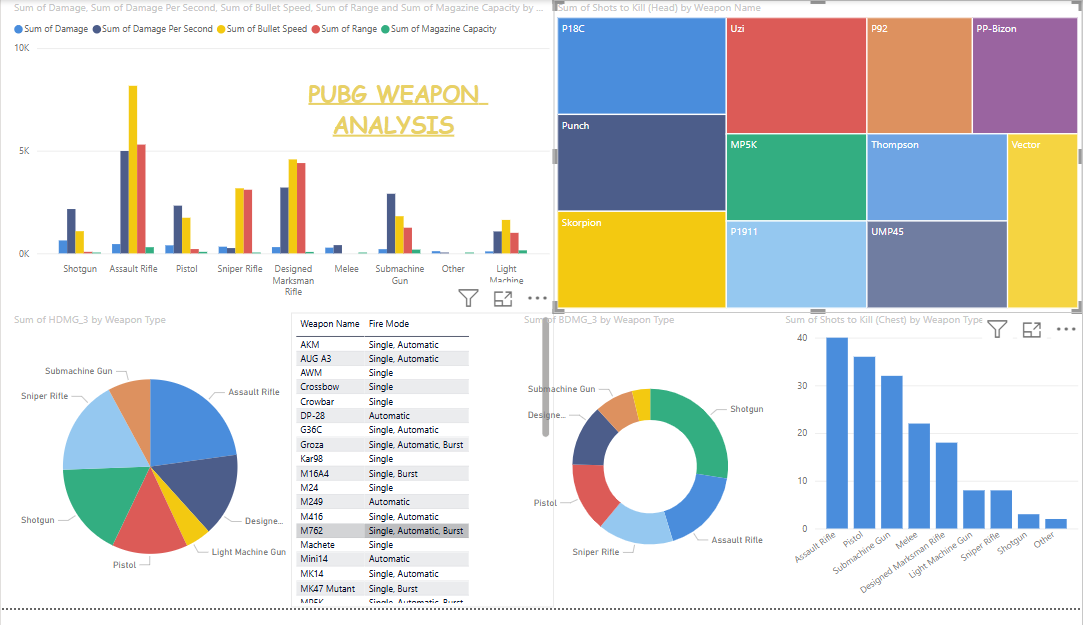

The page's visual inventory and layout, read from the dashboard file:
{"tool":"powerbi","page":{"name":"Page 1","canvas":[1280,720],"ordinal":0},"visuals":[{"type":"lineClusteredColumnComboChart","fields":{"Category":["pubg-weapon-stats.Weapon Type"],"Y":["Sum(pubg-weapon-stats.Damage)","Sum(pubg-weapon-stats.Damage Per Second)","Sum(pubg-weapon-stats.Bullet Speed)","Sum(pubg-weapon-stats.Range)","Sum(pubg-weapon-stats.Magazine Capacity)"]},"box":[10.4,0,643.9,359.7],"z":0},{"type":"treemap","fields":{"Group":["pubg-weapon-stats.Weapon Name"],"Values":["Sum(pubg-weapon-stats.Shots to Kill (Head))"]},"box":[654.2,0,626.1,370],"z":1},{"type":"pieChart","fields":{"Y":["Sum(pubg-weapon-stats.HDMG_3)"],"Series":["pubg-weapon-stats.Weapon Type"]},"box":[10.4,370,333,349.3],"z":2},{"type":"tableEx","fields":{"Values":["pubg-weapon-stats.Weapon Name","pubg-weapon-stats.Fire Mode"]},"box":[343,370,311,349],"z":3},{"type":"donutChart","fields":{"Category":["pubg-weapon-stats.Weapon Type"],"Y":["Sum(pubg-weapon-stats.BDMG_3)"]},"box":[614.2,370,309.3,349.3],"z":4},{"type":"columnChart","fields":{"Category":["pubg-weapon-stats.Weapon Type"],"Y":["Sum(pubg-weapon-stats.Shots to Kill (Chest))"]},"box":[923,370,357,349],"z":5},{"type":"textbox","box":[315.3,85.8,299,94.7],"z":6}]}

Visuals, with their boxes on the page's 1280x720 design canvas (x1, y1, x2, y2). These are canvas units, not pixel positions in the 1083x625 screenshot, which may show the page scaled, cropped or inside an application window:
lineClusteredColumnComboChart - pubg-weapon-stats.Weapon Type x Sum(pubg-weapon-stats.Damage): <bbox>10, 0, 654, 360</bbox>
treemap - pubg-weapon-stats.Weapon Name x Sum(pubg-weapon-stats.Shots to Kill (Head)): <bbox>654, 0, 1280, 370</bbox>
pieChart - Sum(pubg-weapon-stats.HDMG_3) x pubg-weapon-stats.Weapon Type: <bbox>10, 370, 343, 719</bbox>
tableEx - pubg-weapon-stats.Weapon Name x pubg-weapon-stats.Fire Mode: <bbox>343, 370, 654, 719</bbox>
donutChart - pubg-weapon-stats.Weapon Type x Sum(pubg-weapon-stats.BDMG_3): <bbox>614, 370, 924, 719</bbox>
columnChart - pubg-weapon-stats.Weapon Type x Sum(pubg-weapon-stats.Shots to Kill (Chest)): <bbox>923, 370, 1280, 719</bbox>
textbox: <bbox>315, 86, 614, 180</bbox>
